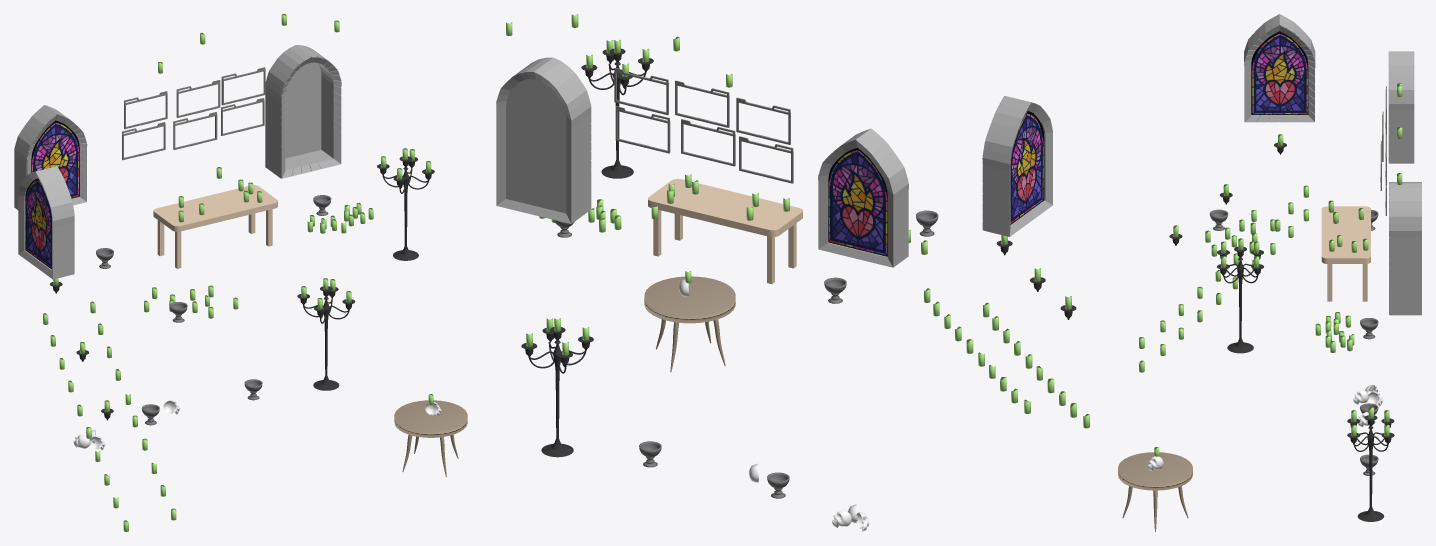
File: thingsx.glb
3 renders of one model, left to right at view 1: azimuth 30°, elevation 25°; view 2: azimuth 150°, elevation 25°; view 3: azimuth 270°, elevation 25°, orthographic. The views are drawn at different scales.
Visible parts, largest first — view 1: WindowRock.003, WindowRock.001, DesktopBase, WindowRock.002, WindowCrystal01.002, TableBase, WindowCrystal01.003, CandelabraBase.001, CandelabraBase; view 2: WindowRock.003, WindowRock.001, WindowCrystal01.004, WindowRock.002, DesktopBase, TableBase, WindowCrystal01.003, CandelabraBase; view 3: WindowRock.003, WindowCrystal01.001, WindowRock.002, WindowRock.001, DesktopBase, TableBase, CandelabraBase, CandelabraBase.001.
Boxes of the visible parts, bbox=[...] form: WindowRock.003: bbox=[265, 45, 341, 178]; WindowRock.001: bbox=[18, 166, 74, 279]; DesktopBase: bbox=[153, 185, 277, 231]; WindowRock.002: bbox=[14, 105, 87, 209]; WindowCrystal01.002: bbox=[31, 120, 79, 198]; TableBase: bbox=[394, 400, 467, 437]; WindowCrystal01.003: bbox=[25, 178, 51, 269]; CandelabraBase.001: bbox=[393, 167, 418, 260]; CandelabraBase: bbox=[313, 297, 339, 390]; WindowRock.003: bbox=[496, 57, 591, 223]; WindowRock.001: bbox=[982, 96, 1052, 236]; WindowCrystal01.004: bbox=[828, 147, 887, 256]; WindowRock.002: bbox=[818, 128, 908, 267]; DesktopBase: bbox=[648, 178, 802, 237]; TableBase: bbox=[644, 276, 735, 323]; WindowCrystal01.003: bbox=[1010, 111, 1044, 224]; CandelabraBase: bbox=[541, 340, 573, 457]; WindowRock.003: bbox=[1389, 182, 1421, 315]; WindowCrystal01.001: bbox=[1251, 31, 1308, 114]; WindowRock.002: bbox=[1388, 51, 1414, 163]; WindowRock.001: bbox=[1244, 14, 1315, 122]; DesktopBase: bbox=[1321, 206, 1370, 263]; TableBase: bbox=[1118, 452, 1192, 490]; CandelabraBase: bbox=[1357, 426, 1384, 521]; CandelabraBase.001: bbox=[1227, 257, 1253, 353].
Bounding box in the file's own units: 17.72 × 16.95 × 12.32.
Materials: 9 (1 with a texture image).
